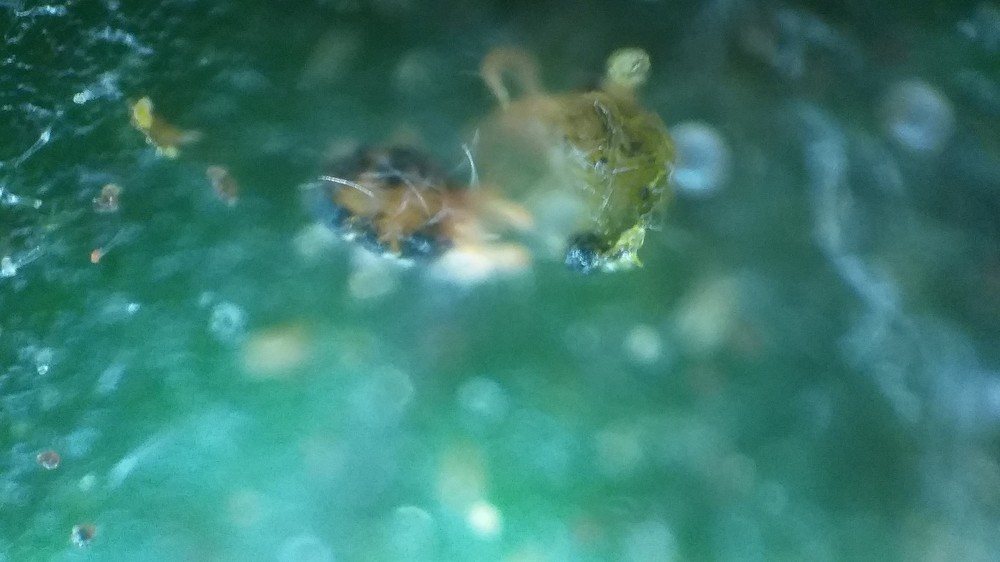Aracnido Rojo: (278, 125, 553, 309), (476, 43, 679, 280)
